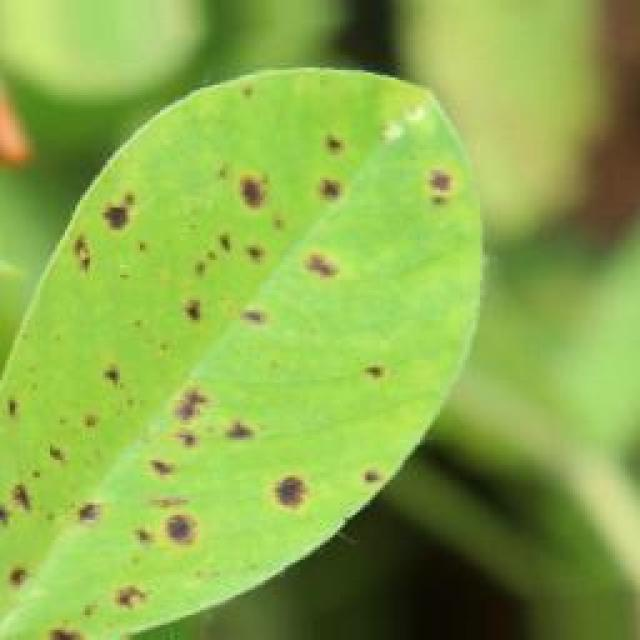Yellowish: (0, 108, 548, 608)
